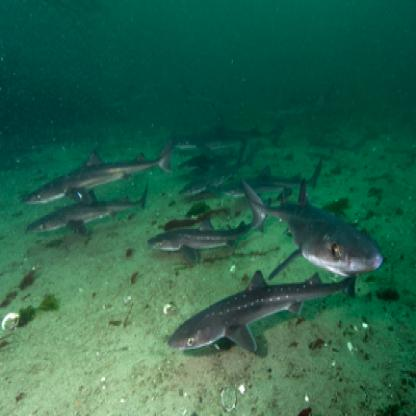Shark -Selachimorpha-: (163, 265, 364, 360), (236, 174, 388, 285), (20, 145, 182, 218), (139, 213, 253, 267)
